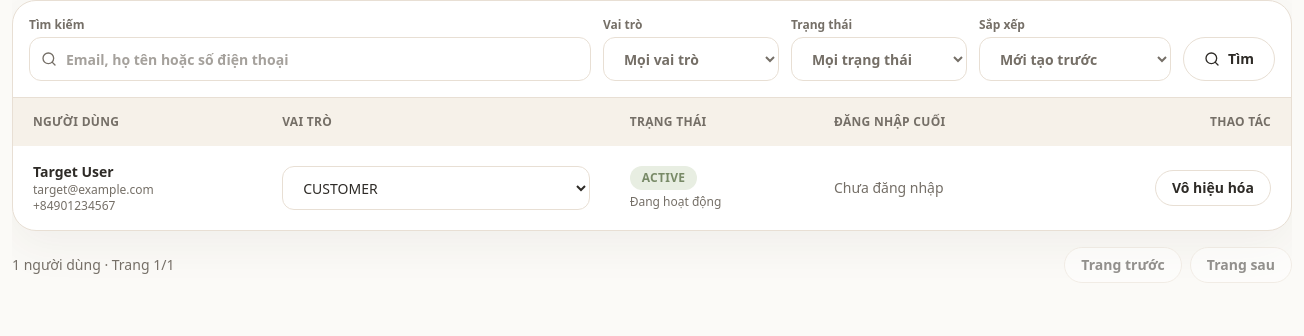
Test: AdminUserList › sends status and role mutations, then refetches server state
Expected: the text "Target User" is shown, [33,162,114,181]
Click the button "Vô hiệu hóa" at [1213, 188], box [1155,170,1271,206]
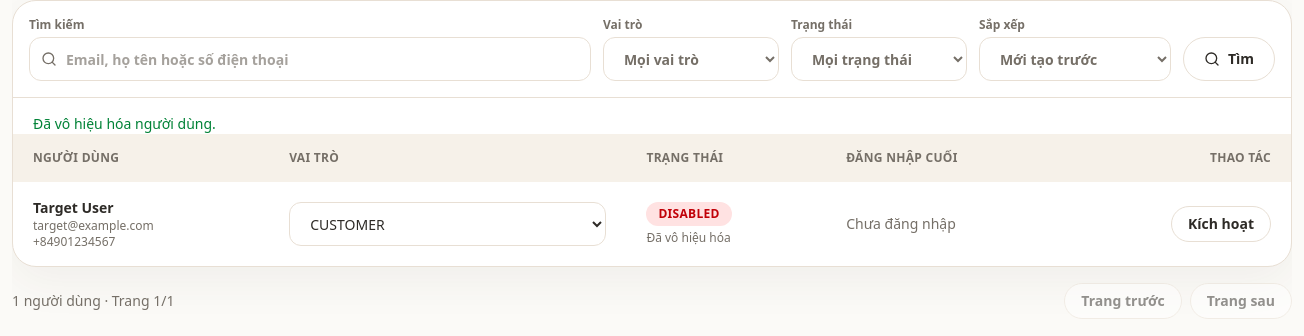
Result: the text "Đã vô hiệu hóa người dùng." is shown at [33,114,216,133]
Select "SALES_STAFF" in the dropdown named "Vai trò của target@example.com" at [448, 224], box [289,202,606,246]
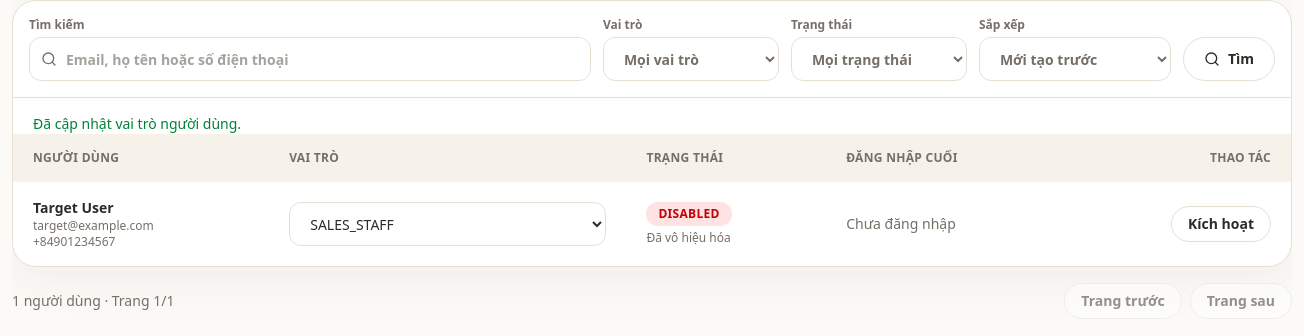
Result: the text "Đã cập nhật vai trò người dùng." is shown at [33,114,241,133]
